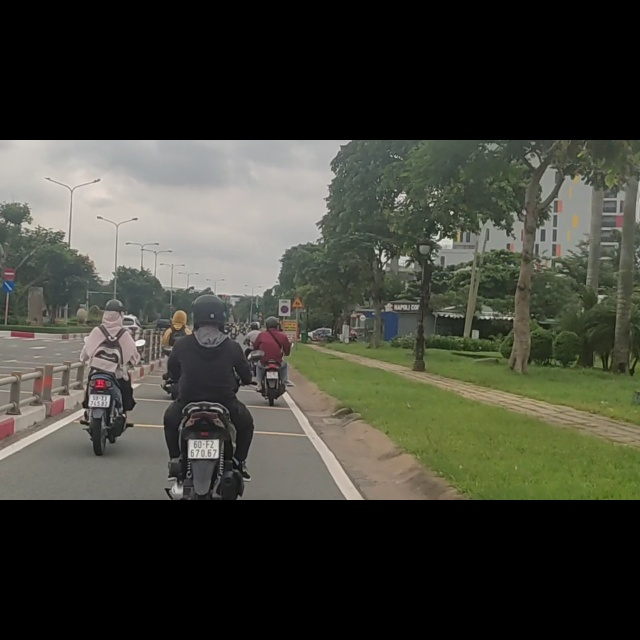bien_cam: (291, 276, 304, 299), (3, 226, 16, 248), (3, 250, 15, 271), (281, 294, 289, 308)
